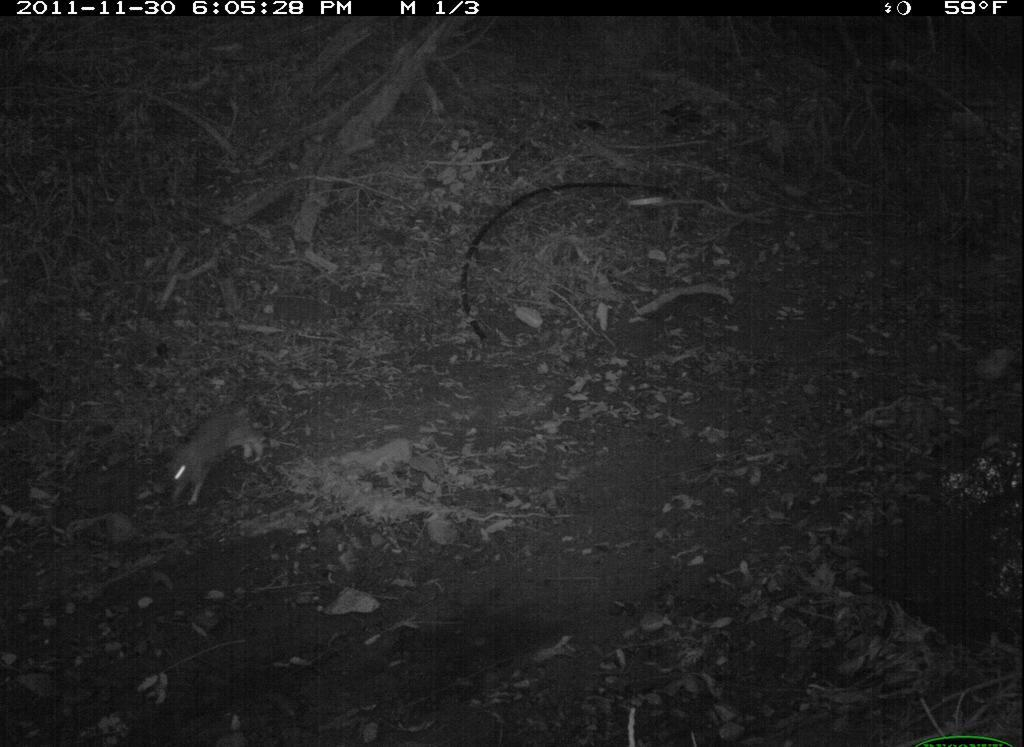rabbit: (159, 374, 290, 516)
